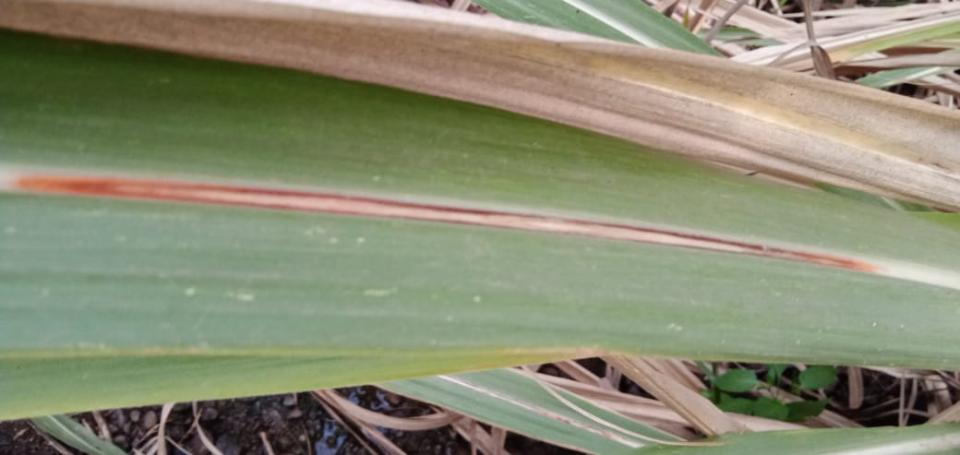RedRot: (12, 175, 882, 272)
